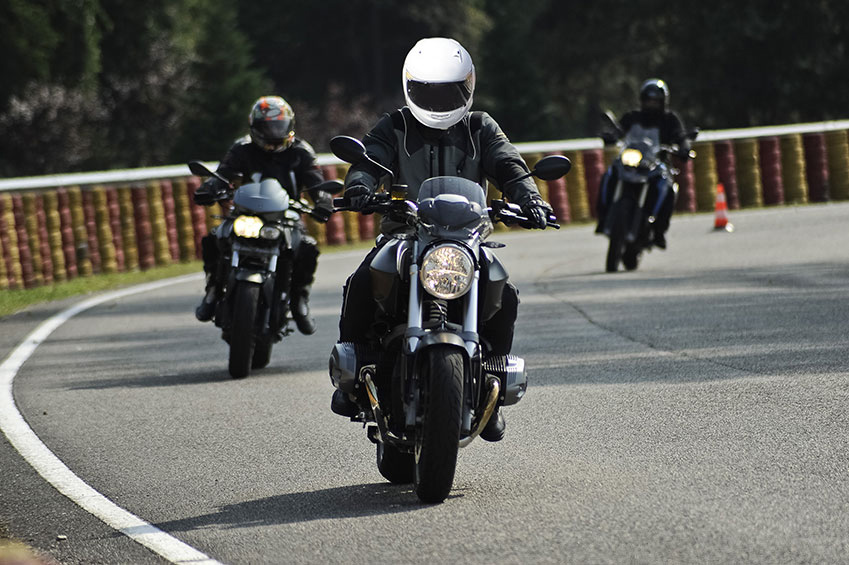helmet: (404, 37, 475, 129), (244, 95, 302, 151), (637, 77, 672, 118)
